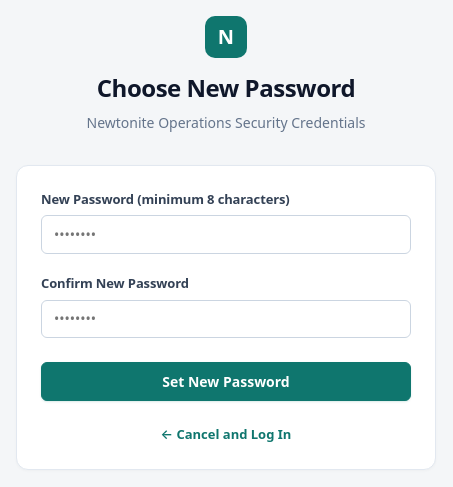
Test case: ResetPassword Page › submits token and new password and displays success message
Type "brandNewPassword123" into the password field labelled "New Password (minimum 8 characters)". click: point(226, 235)
box: top-left (41, 215), bottom-right (411, 254)
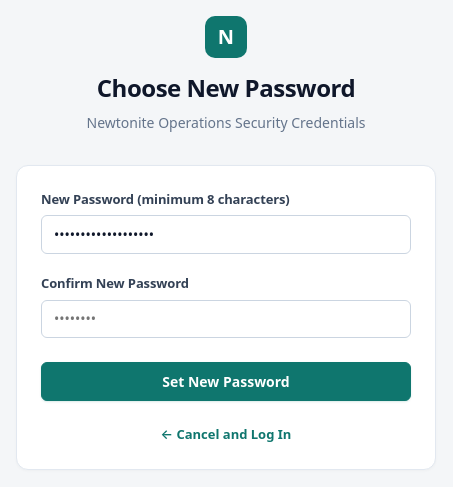
Type "brandNewPassword123" into the password field labelled "Confirm New Password". click: point(226, 319)
box: top-left (41, 300), bottom-right (411, 338)
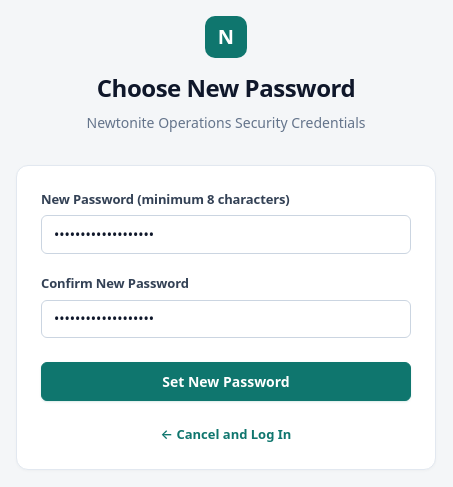
Click the button "Set New Password". click: point(226, 381)
box: top-left (41, 362), bottom-right (411, 401)
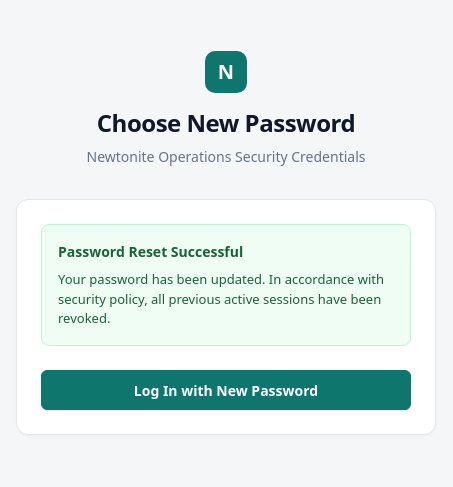
Check: the message is shown, box top-left (41, 224), bottom-right (411, 410)
Check: the text "Password Reset Successful" is shown, box top-left (58, 242), bottom-right (243, 261)
